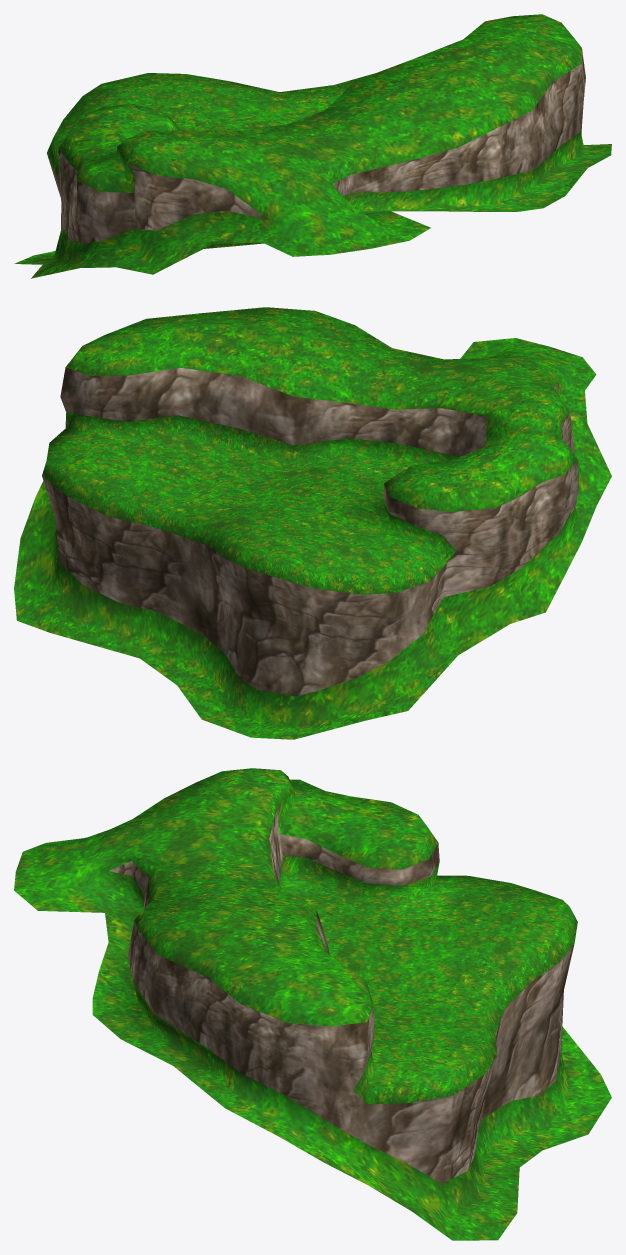
The model's file is EKH_ENTRANCE_PS_EN_DIRTMOUND8476__GX.fbx.
3 renders of one model, top to bottom at view 1: azimuth 30°, elevation 25°; view 2: azimuth 150°, elevation 25°; view 3: azimuth 270°, elevation 25°, orthographic. The views are drawn at different scales.
Visible parts, largest first — view 1: EKH_ENTRANCE_PS_EN_DIRTMOUND8476__GX; view 2: EKH_ENTRANCE_PS_EN_DIRTMOUND8476__GX; view 3: EKH_ENTRANCE_PS_EN_DIRTMOUND8476__GX.
Boxes of the visible parts, bbox=[...] form: EKH_ENTRANCE_PS_EN_DIRTMOUND8476__GX: bbox=[14, 14, 611, 278]; EKH_ENTRANCE_PS_EN_DIRTMOUND8476__GX: bbox=[14, 307, 611, 739]; EKH_ENTRANCE_PS_EN_DIRTMOUND8476__GX: bbox=[14, 768, 611, 1240].
Size of the model in its own units: 164169 by 75679 by 152709.
2 materials, 2 textured.
